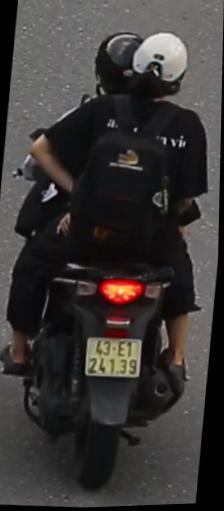LP: (82, 330, 147, 383)
helmet: (128, 25, 193, 108)
